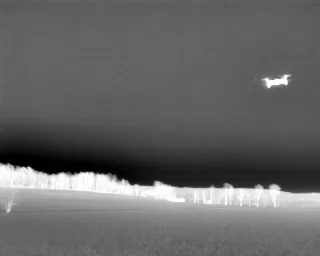DRONE: (258, 69, 296, 94)
